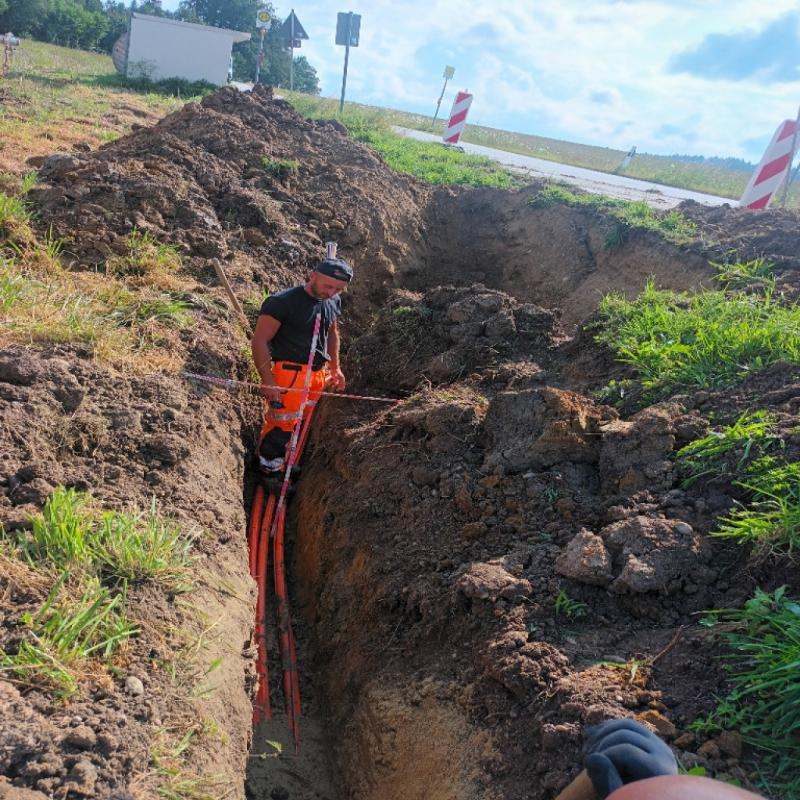Orang-Speednetrohrchen: (250, 484, 300, 720)
